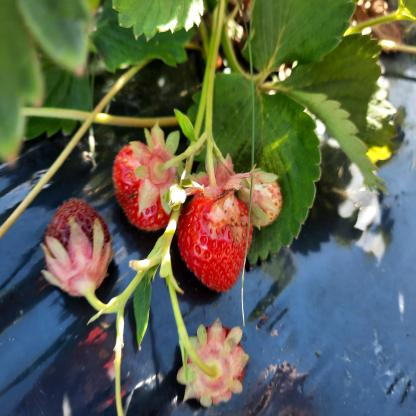ripe: (188, 183, 243, 288), (50, 207, 100, 290), (116, 146, 170, 222), (188, 335, 238, 403)
unripe: (225, 164, 278, 230)
